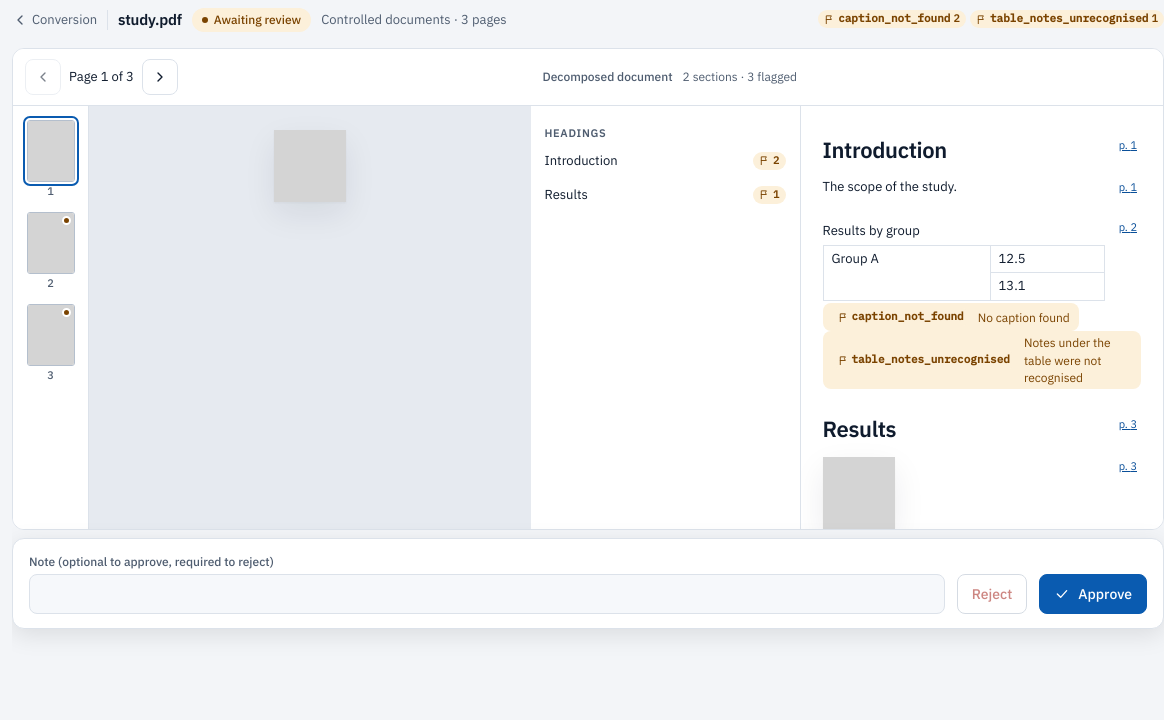
Test case: ConversionReviewPage › says someone else decided when approve answers 409
The image size is (1164, 720).
expect the heading "study.pdf" is shown: met, box [118,9,182,31]
Type "A note" into the field labelled "Note (optional to approve, required to reject)" at point(487, 594), box [29,574,945,614]
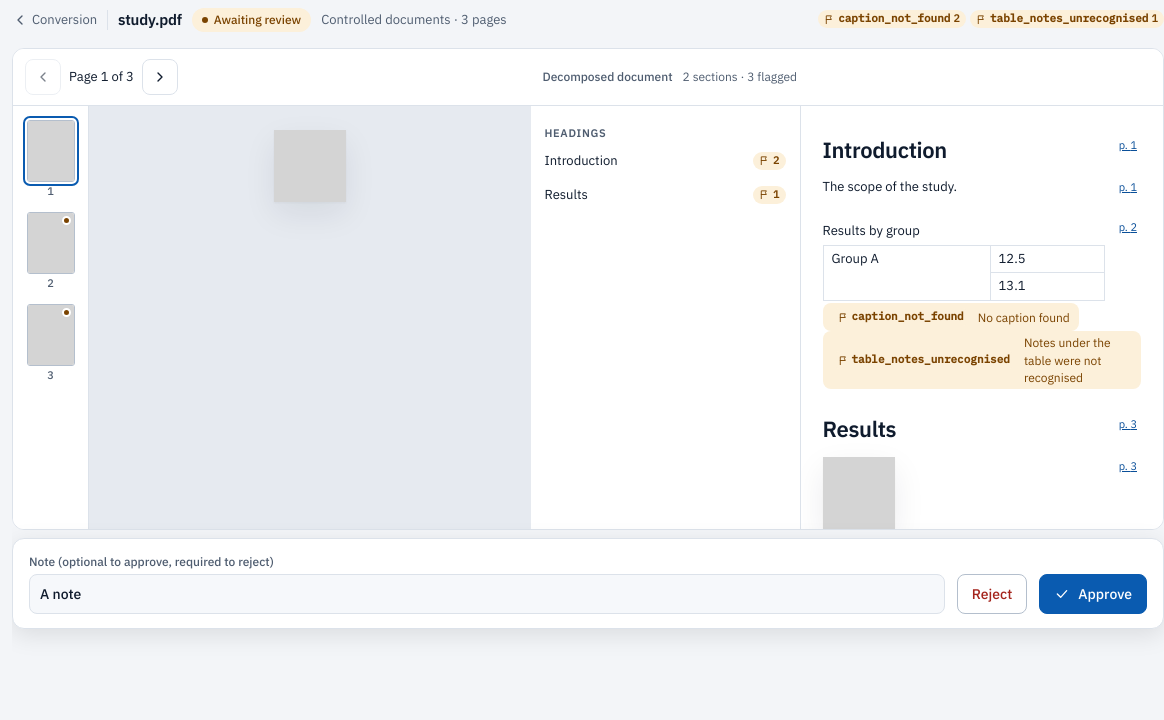
Click the button "Approve" at point(1093, 594), box [1039,574,1147,614]
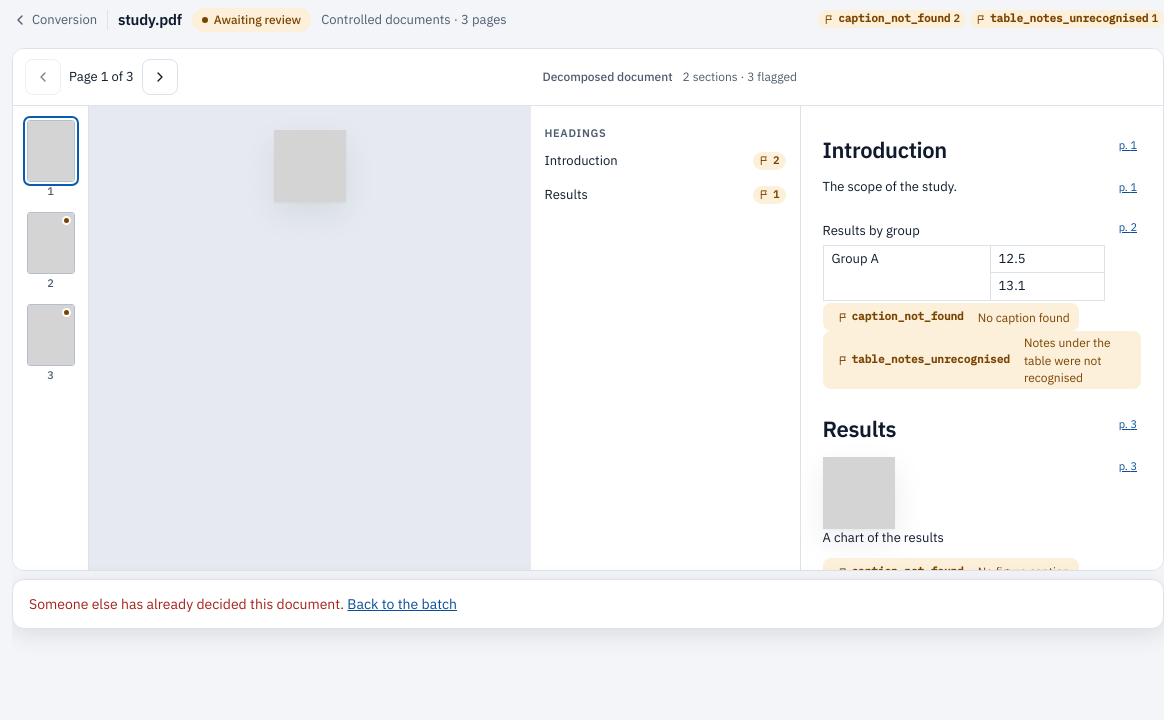
expect the message shows "Someone else has already decided this document": met, box [29,595,347,613]
